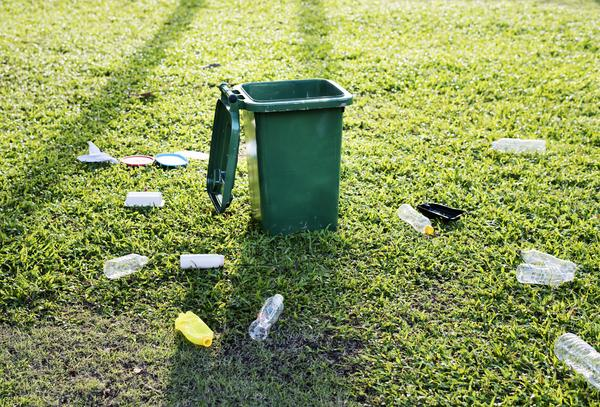bottle: (247, 287, 289, 348), (159, 301, 206, 355), (510, 259, 577, 295), (518, 242, 583, 275), (390, 202, 443, 242), (485, 129, 549, 160), (0, 248, 31, 286), (180, 251, 228, 275), (545, 362, 600, 366)
